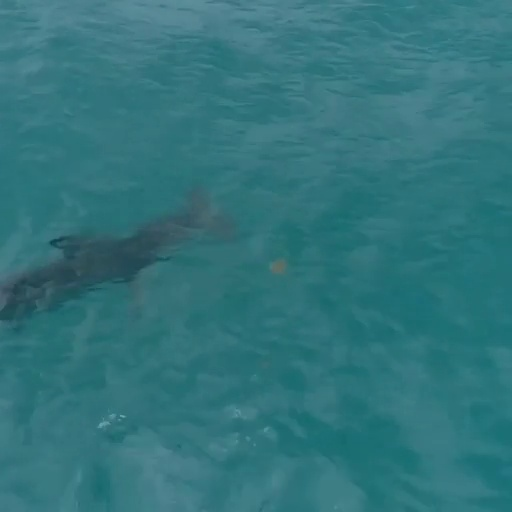shark: (3, 185, 240, 324)
